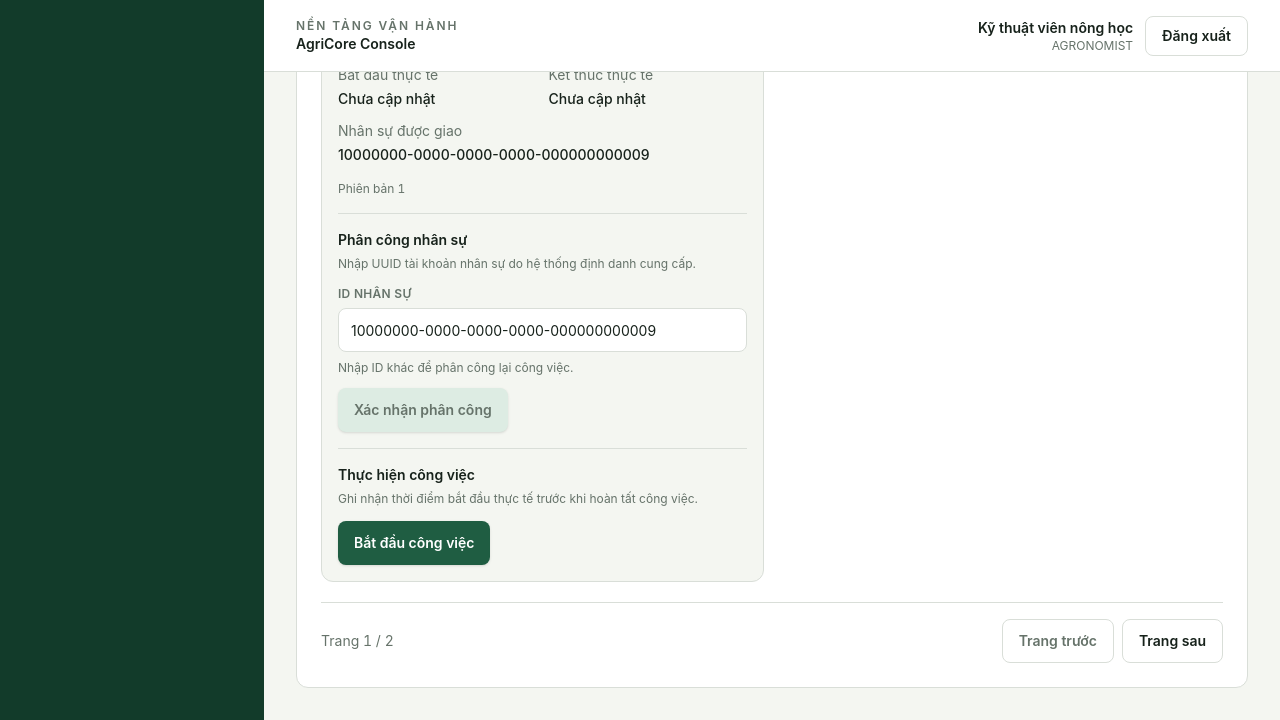
Scenario: work-task workspace resilience › does not reopen a cached page after access is denied on a later page
(page scrolled)
Click the button "Trang sau": [1172, 641] box 1122,619 -> 1223,663
(page scrolled)
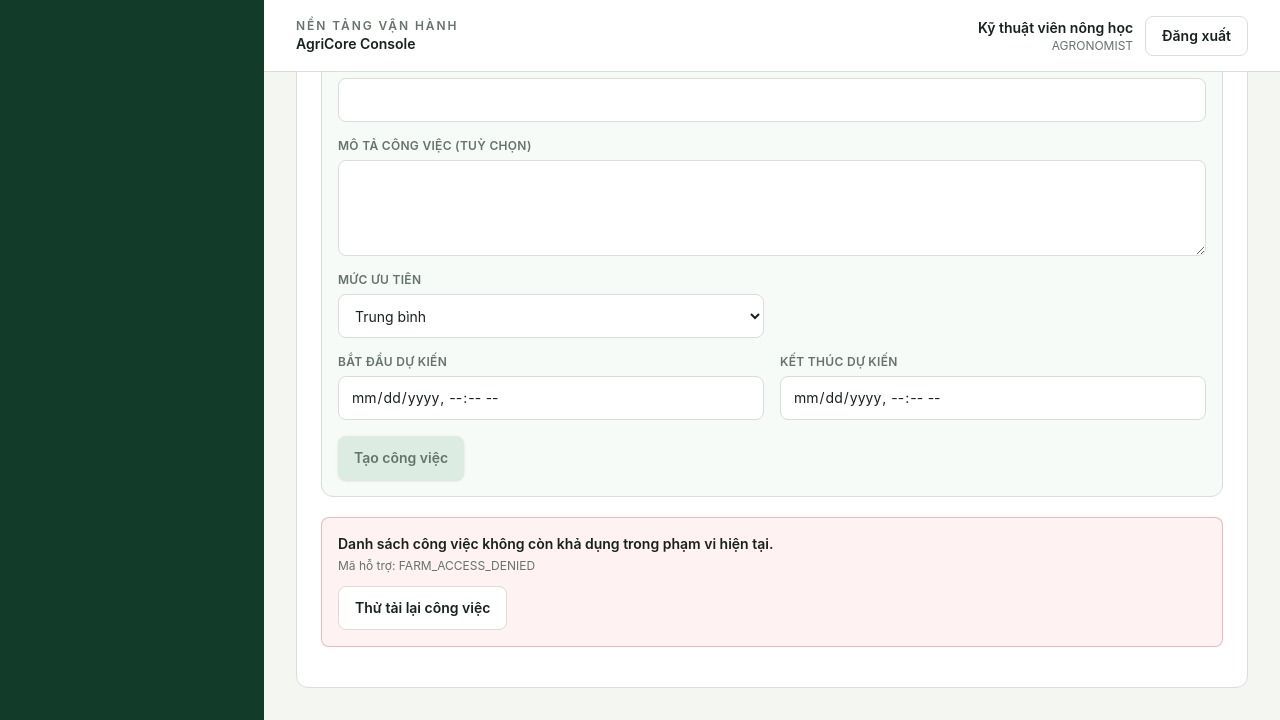
Now the message named "Không thể tải công việc" shows "FARM_ACCESS_DENIED", box 399,558 -> 535,573
